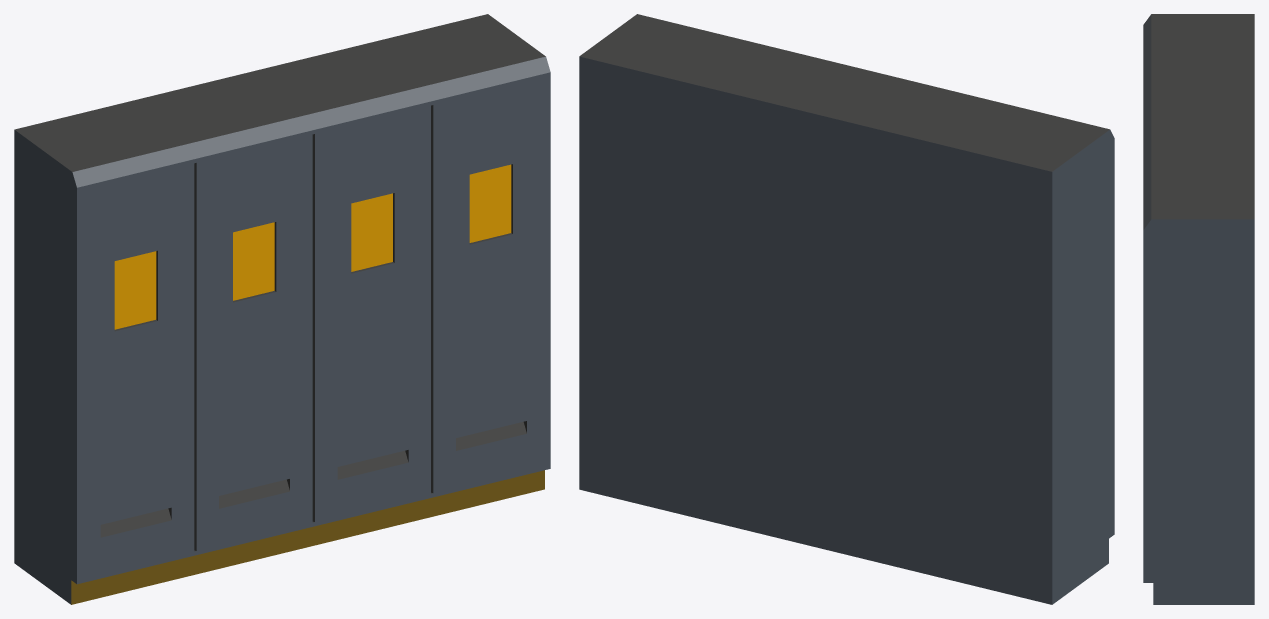
The model's file is locker_bank.glb.
3 views of the same model, side by side, from view 1: azimuth 30°, elevation 25°; view 2: azimuth 150°, elevation 25°; view 3: azimuth 270°, elevation 25° (orthographic). The views are drawn at different scales.
Visible parts, largest first — view 1: locker_bank; view 2: locker_bank; view 3: locker_bank.
Part boxes in pixels (x1=…): locker_bank: x1=14, y1=14, x2=550, y2=604; locker_bank: x1=579, y1=14, x2=1114, y2=604; locker_bank: x1=1143, y1=14, x2=1254, y2=604.
Bounding box in the file's own units: 2.4 × 2.1 × 0.55.
